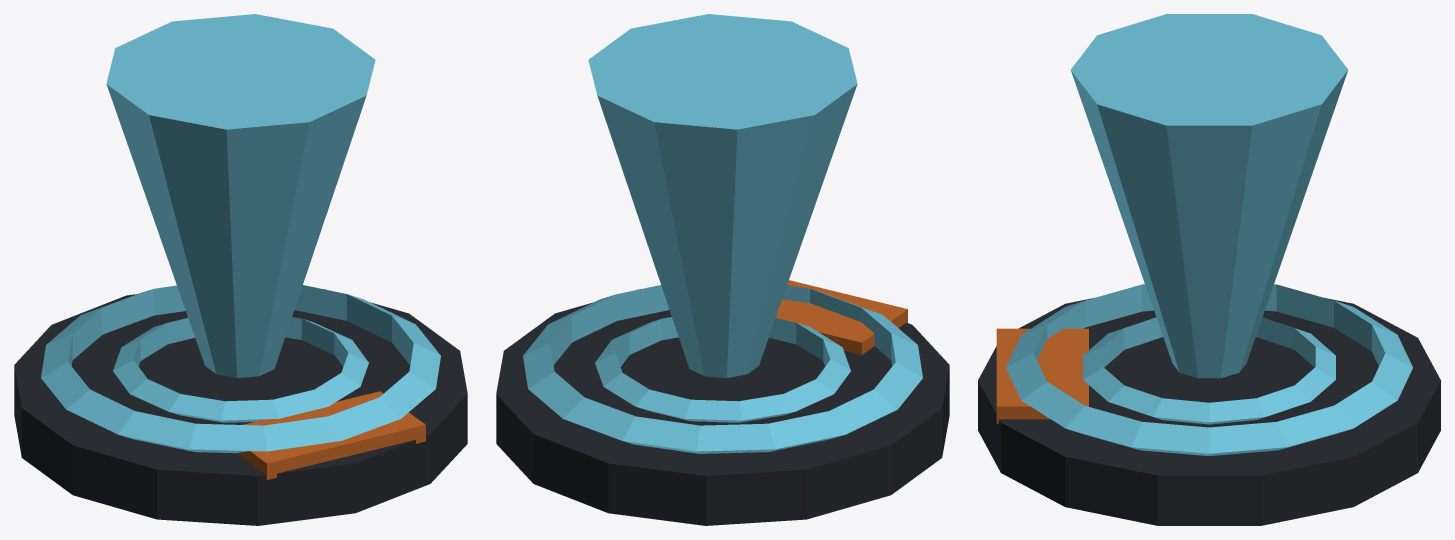
The model's file is portable-teleporter.glb.
3 renders of one model, left to right at view 1: azimuth 30°, elevation 25°; view 2: azimuth 150°, elevation 25°; view 3: azimuth 270°, elevation 25°, orthographic.
Visible parts, largest first — view 1: m; view 2: m; view 3: m.
Boxes of the visible parts, box(x1,y1,x2,y2) form: m: box(14, 14, 467, 525); m: box(496, 14, 949, 525); m: box(978, 14, 1440, 525).
Size of the model in its own units: 0.1 by 0.0882 by 0.1026.
